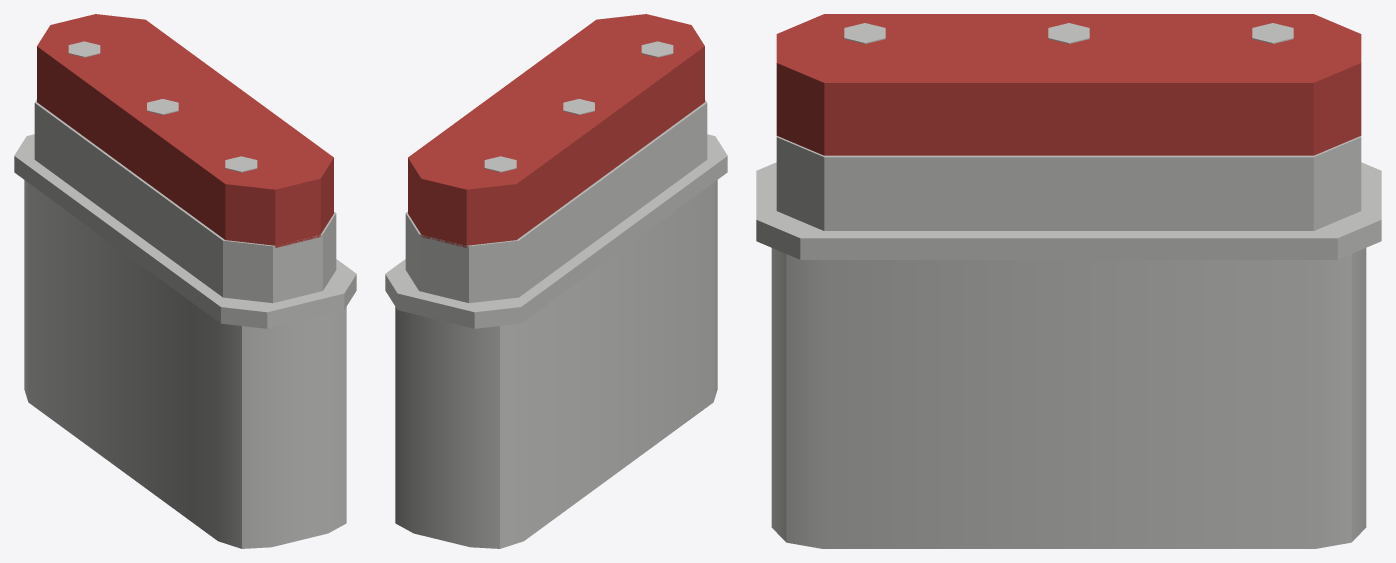
File: hot_cam_lod2.glb
3 views of the same model, side by side, from view 1: azimuth 30°, elevation 25°; view 2: azimuth 150°, elevation 25°; view 3: azimuth 270°, elevation 25° (orthographic). The views are drawn at different scales.
Visible parts, largest first — view 1: hot_cam_lod2; view 2: hot_cam_lod2; view 3: hot_cam_lod2.
Part boxes in pixels (x1=…): hot_cam_lod2: x1=14, y1=14, x2=356, y2=548; hot_cam_lod2: x1=385, y1=14, x2=727, y2=548; hot_cam_lod2: x1=756, y1=14, x2=1381, y2=548.
Bounding box in the file's own units: 0.12 × 0.3 × 0.368.
